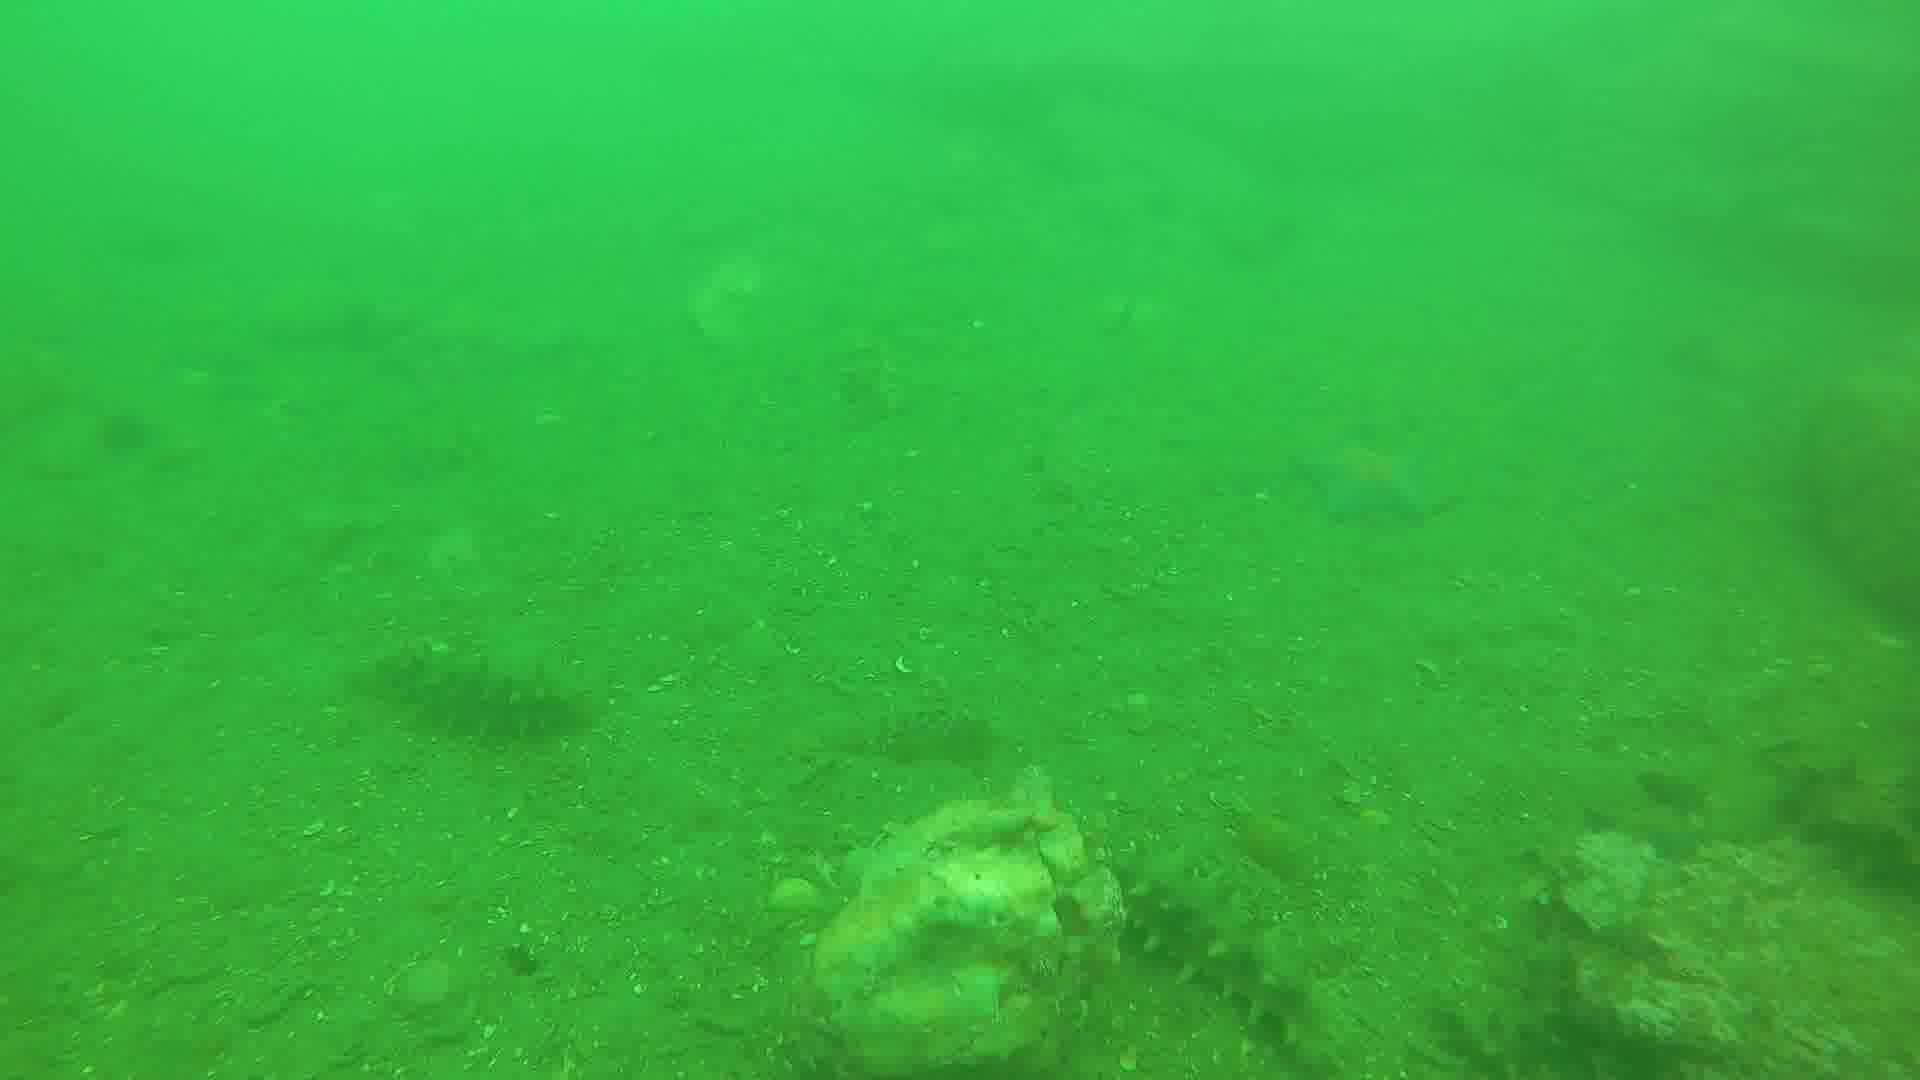holothurian: (1112, 843, 1362, 1073), (364, 642, 607, 744), (1772, 748, 1920, 902)
starfish: (1294, 431, 1437, 527)
